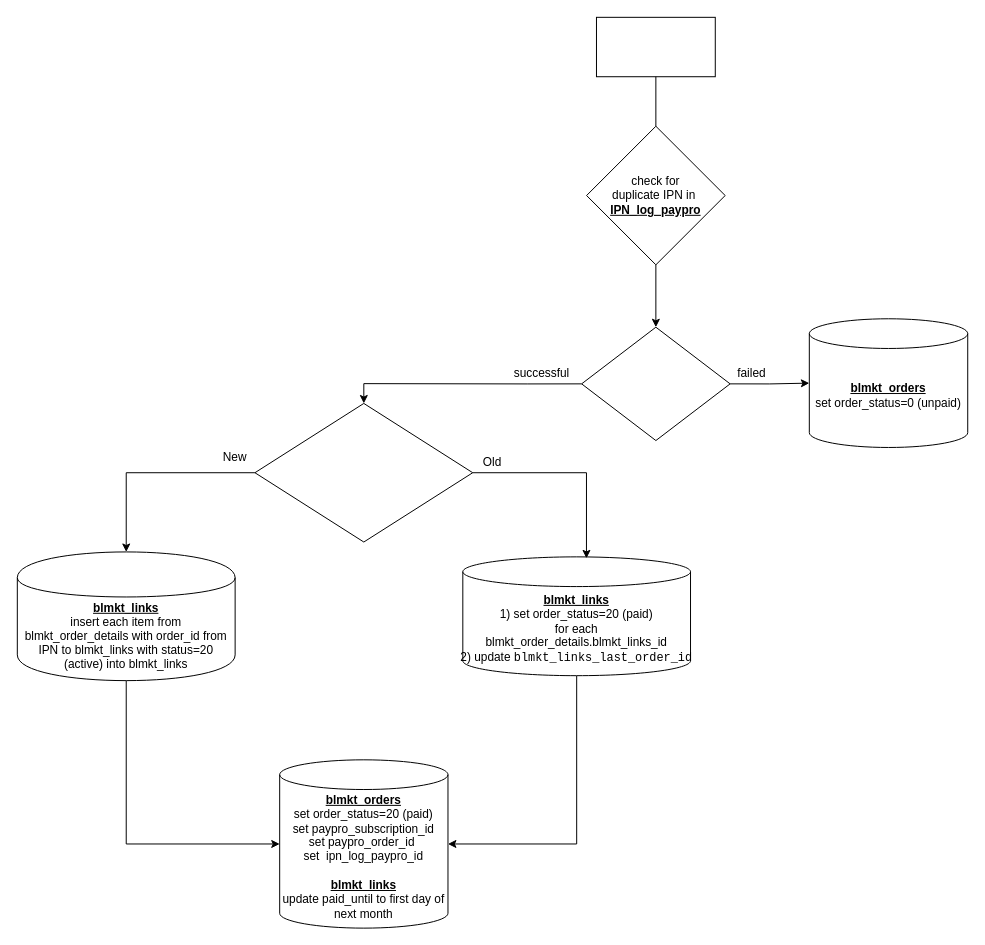
The diagram is 985 pixels wide and 945 high, and some of its shapes have lost their labels. Here are the shapes that lost their labels. From the top down, the centre of each, then its label:
point 655,46: Payment Notification
point 655,383: IPN_log_paypro Insert IPN to database as log history
point 363,472: New / Old Order check blmkt_order_details.blmkt_links_id 0=New >0=Old
